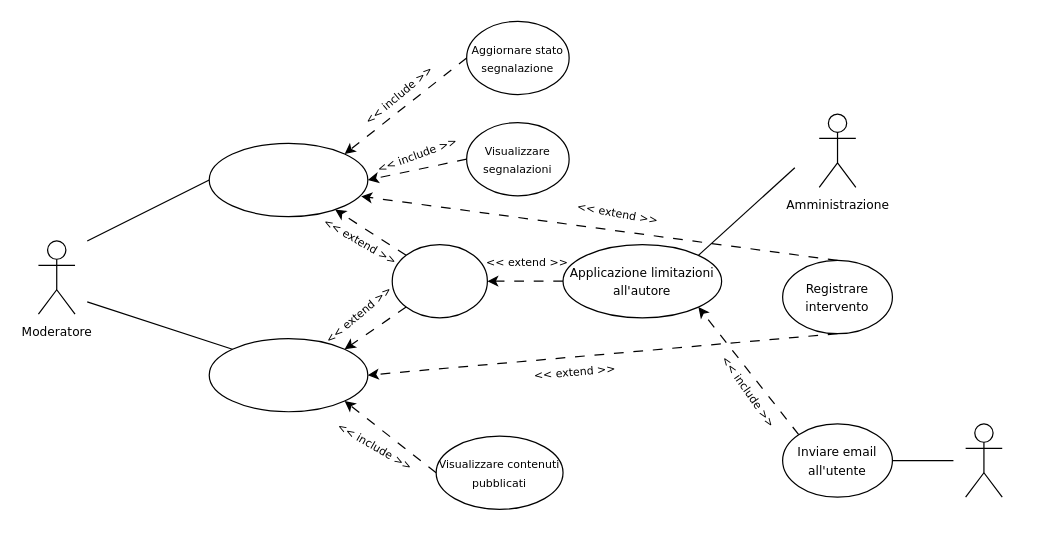
Some shapes in this 1038 by 544 pixel diagram are drawn without their labels. Here are the shapes that lost their labels. From the top down, the box of each, then its label:
(208, 142, 368, 217): Moderazione tramite coda di revisione
(391, 243, 487, 318): Rimozione contenuto
(208, 337, 368, 412): Moderazione spontanea
(964, 423, 1002, 497): mail server
